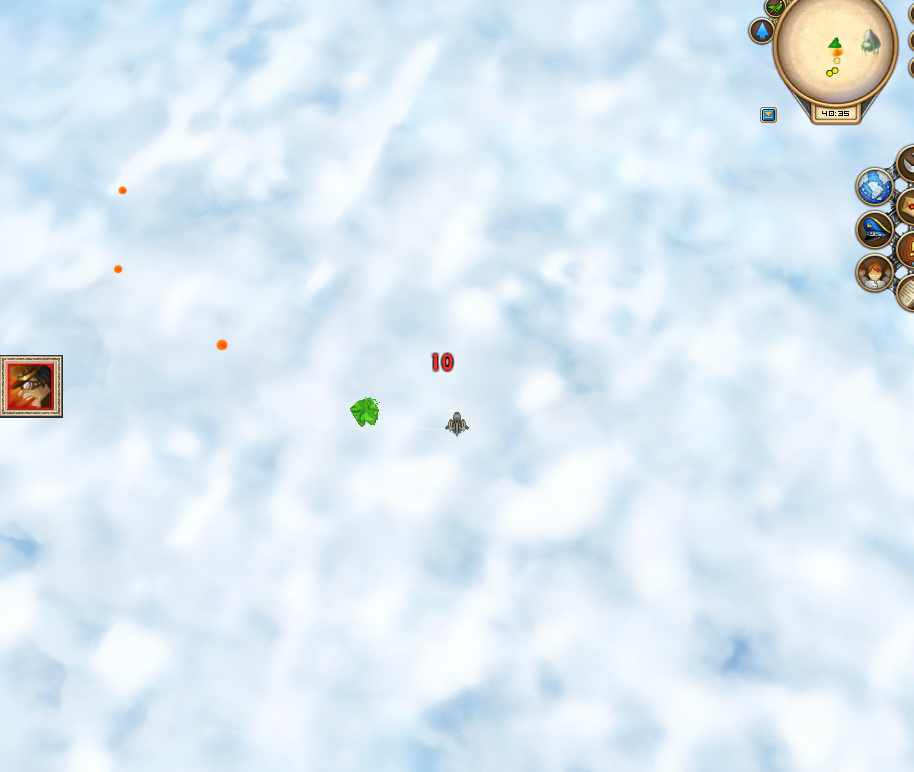dandelion-empty: (343, 389, 386, 430)
fluff: (213, 335, 231, 354), (109, 260, 127, 276), (115, 182, 128, 198)
